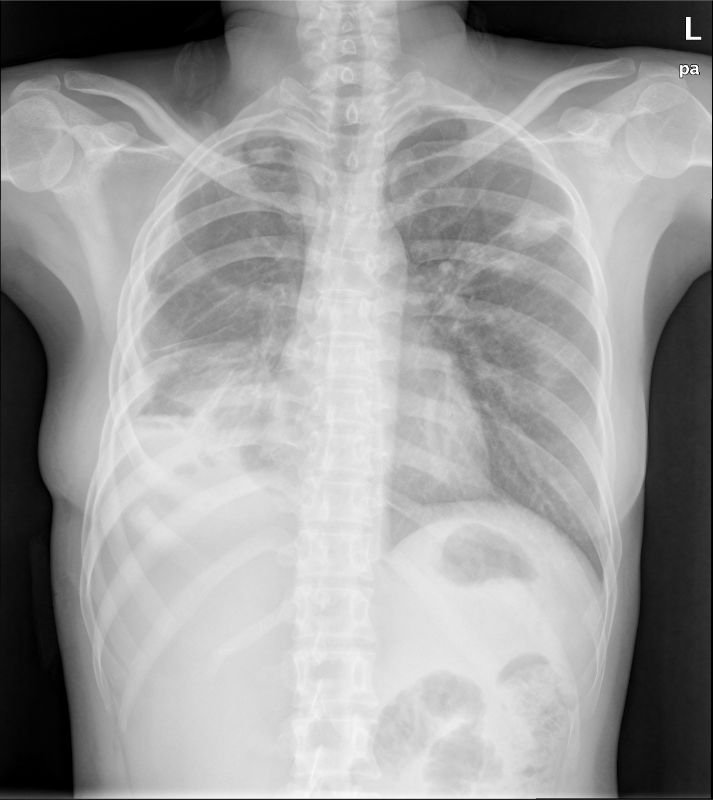Tuberculosis (TB): (495, 200, 576, 275)
